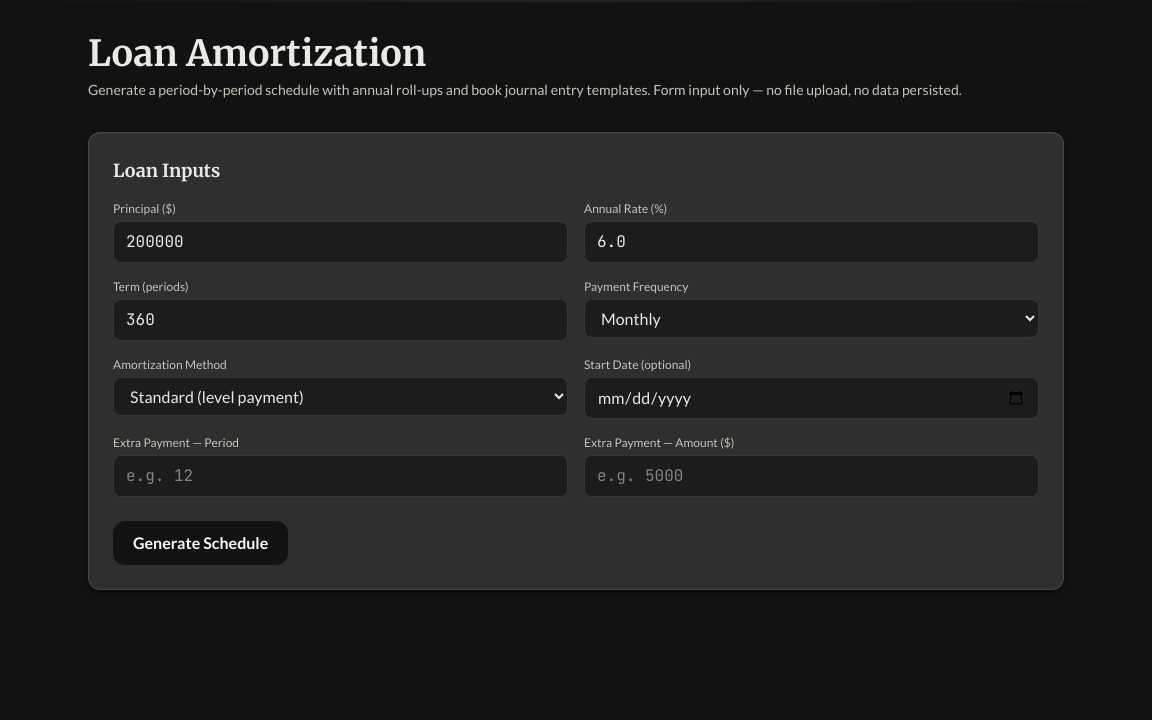
LoanAmortizationPage › shows the balloon amount field only when balloon method is selected
expect the text "Balloon Amount ($)" is not shown: met
Select "Balloon" in the dropdown showing "Standard (level payment)" at (340, 396), box x1=113 y1=377 x2=568 y2=416
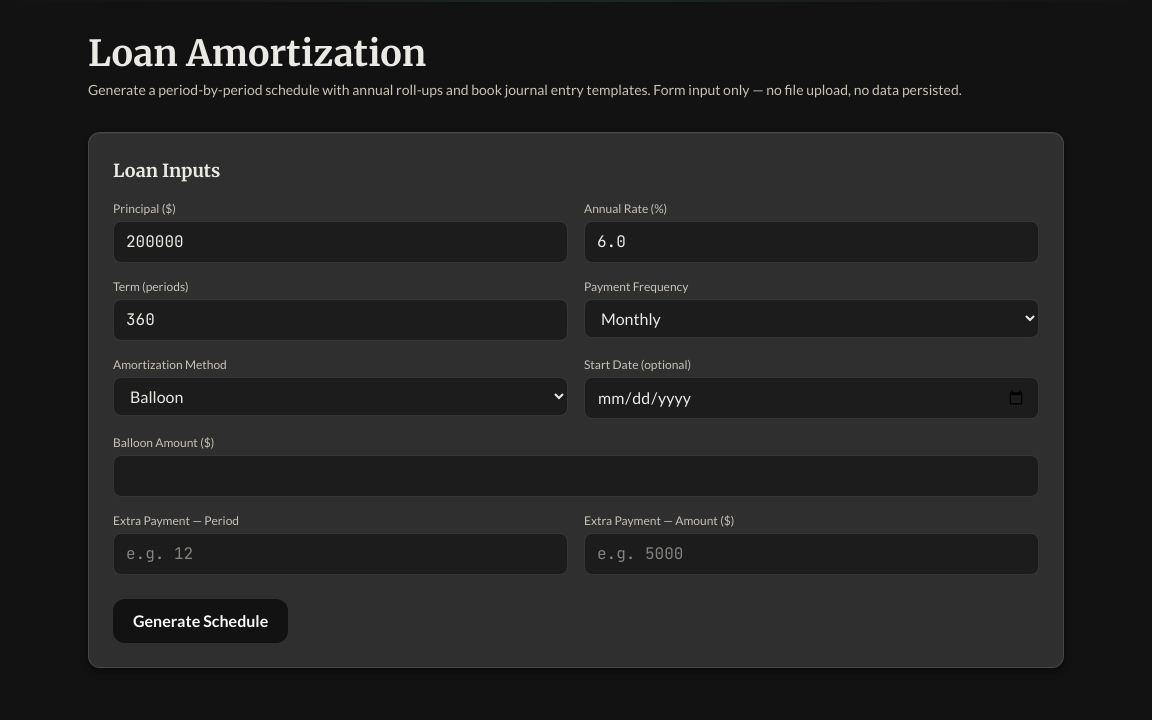
expect the text "Balloon Amount ($)" is shown: met, box x1=113 y1=435 x2=214 y2=450
